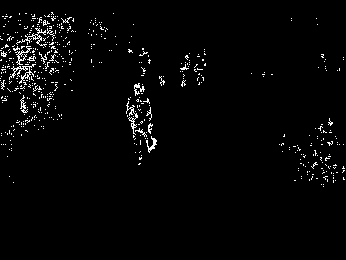person: (122, 81, 160, 168)
